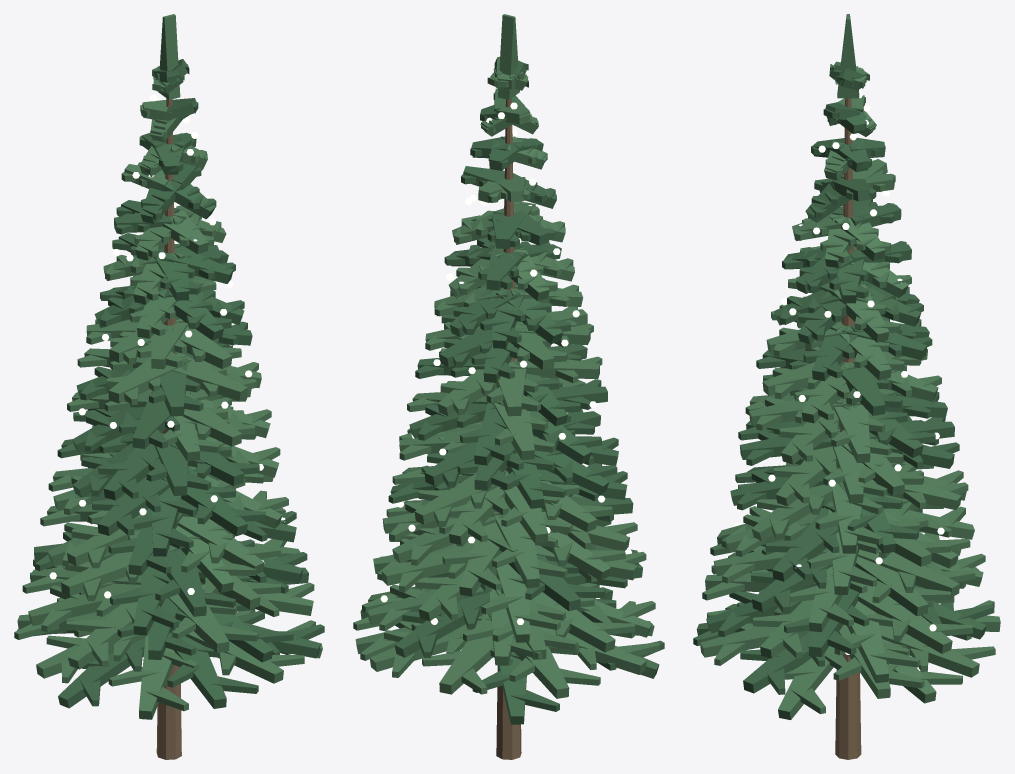
3 views of the same model, side by side, from view 1: azimuth 30°, elevation 25°; view 2: azimuth 150°, elevation 25°; view 3: azimuth 270°, elevation 25° (orthographic).
Visible parts, largest first — view 1: br, br.004, trunk, l0; view 2: br, br.004, trunk, l0; view 3: br, br.004, trunk, l0.
Boxes of the visible parts, x1=… form: br: x1=14, y1=14, x2=322, y2=719; br.004: x1=17, y1=59, x2=324, y2=708; trunk: x1=156, y1=98, x2=181, y2=759; l0: x1=49, y1=94, x2=285, y2=598; br: x1=353, y1=14, x2=659, y2=698; br.004: x1=380, y1=56, x2=664, y2=724; trunk: x1=496, y1=98, x2=521, y2=759; l0: x1=380, y1=102, x2=631, y2=624; br: x1=700, y1=14, x2=1000, y2=719; br.004: x1=693, y1=61, x2=994, y2=694; trunk: x1=835, y1=98, x2=861, y2=759; l0: x1=733, y1=91, x2=975, y2=654.
Size of the model in its own units: 0.5634 by 1.5 by 0.5665.
